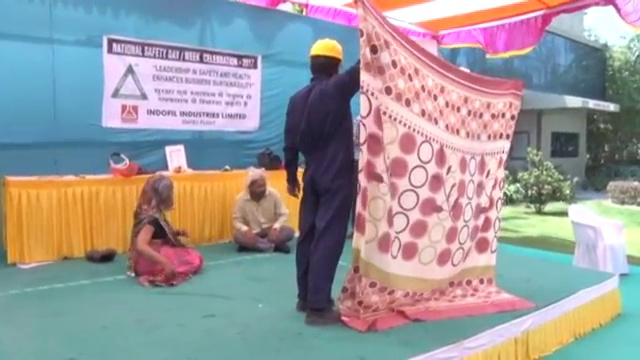helmet: (308, 36, 344, 62)
helmet_off: (142, 174, 173, 205), (244, 169, 269, 202)
helmet_on: (309, 36, 344, 79)
person: (281, 34, 362, 324), (123, 175, 203, 283), (227, 169, 296, 254)
